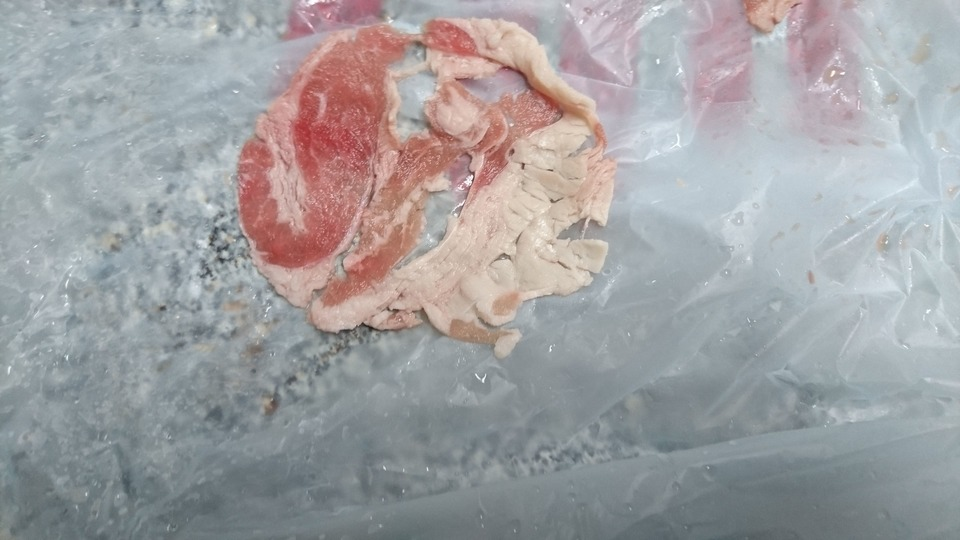restructured meat: (237, 25, 613, 357)
